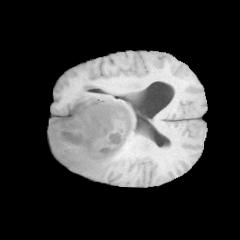glioma: (48, 90, 135, 177)
